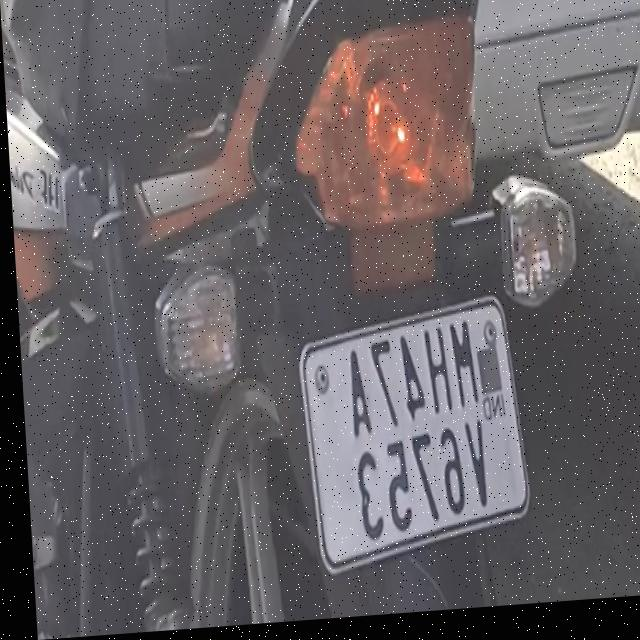plate: (293, 302, 526, 586)
